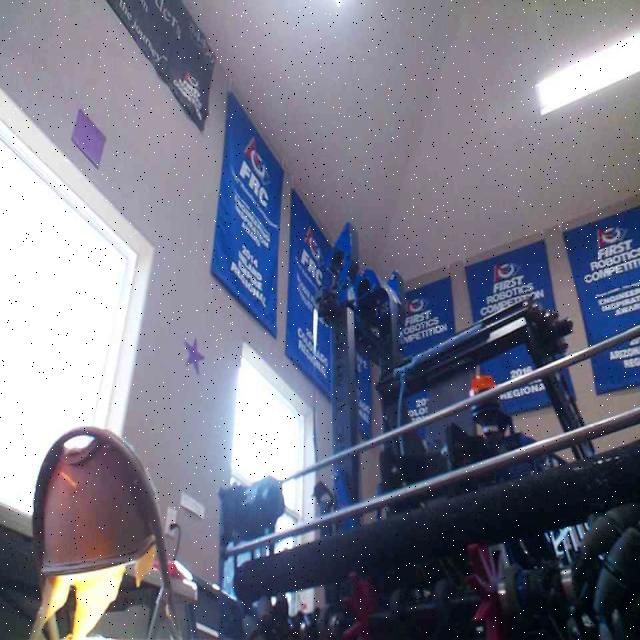square_purple: (69, 106, 107, 170)
star_purple: (184, 336, 205, 373)
